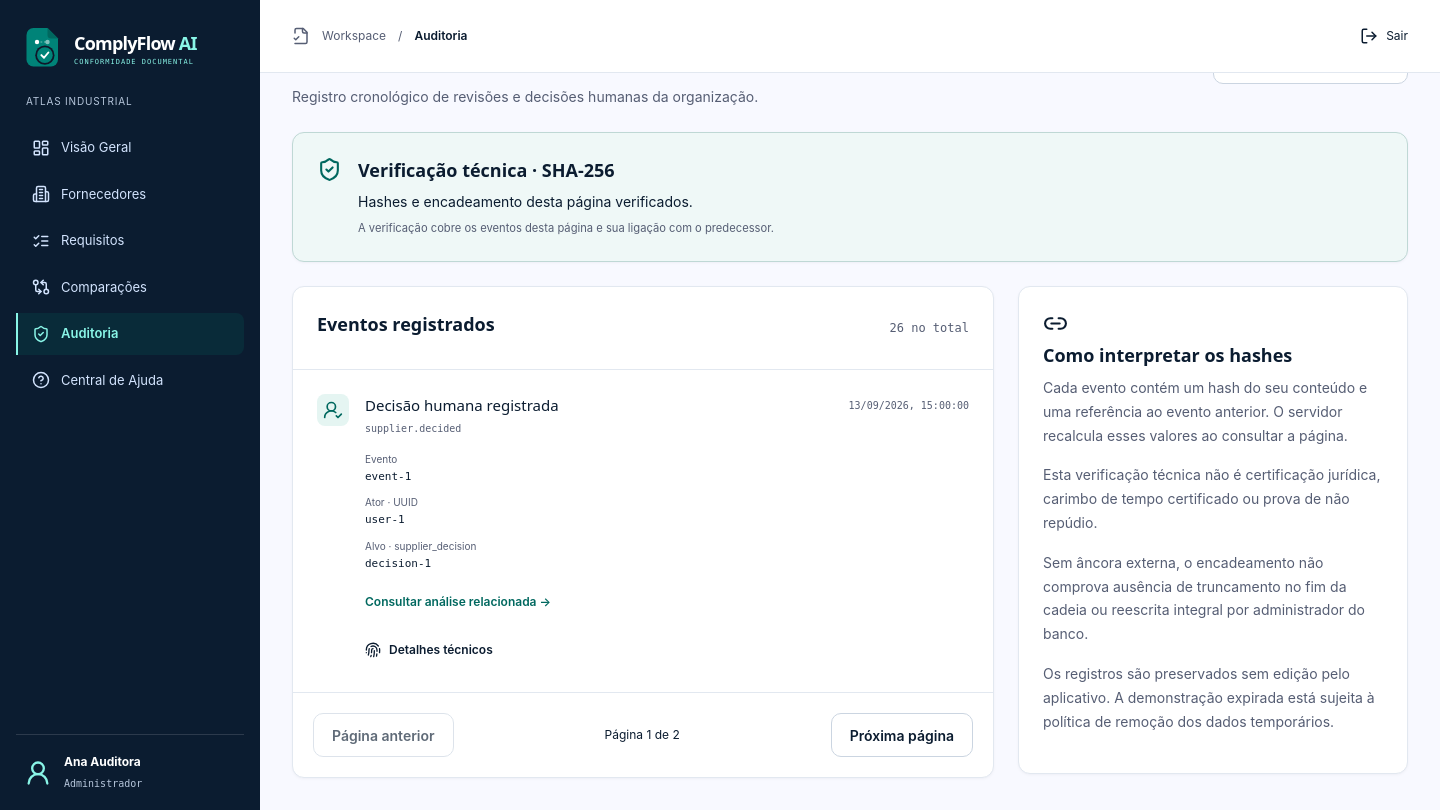
Test: Audit › paginates real events and marks technical verification and broken chain
(page scrolled)
Expected: the text "Hashes e encadeamento desta página verificados." is shown, [358,193,693,210]
Expected: the picture named "Integridade verificada nesta página" is shown, [317,157,342,182]
Click the heading "Detalhes técnicos".
click(429, 650)  # box [365,642,493,658]
(page scrolled)
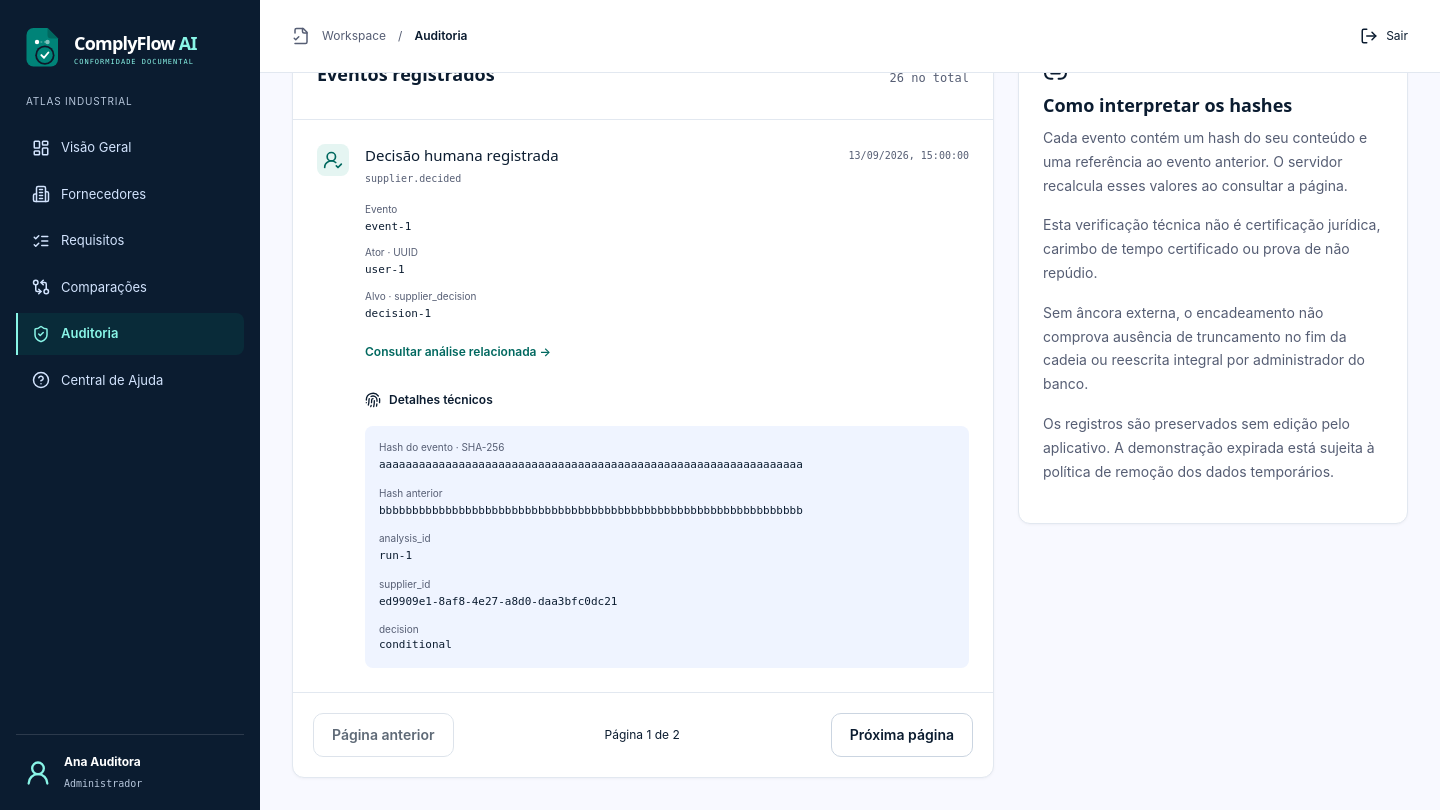
Click the button "Próxima página".
click(902, 735)  # box [831,713,973,757]
(page scrolled)
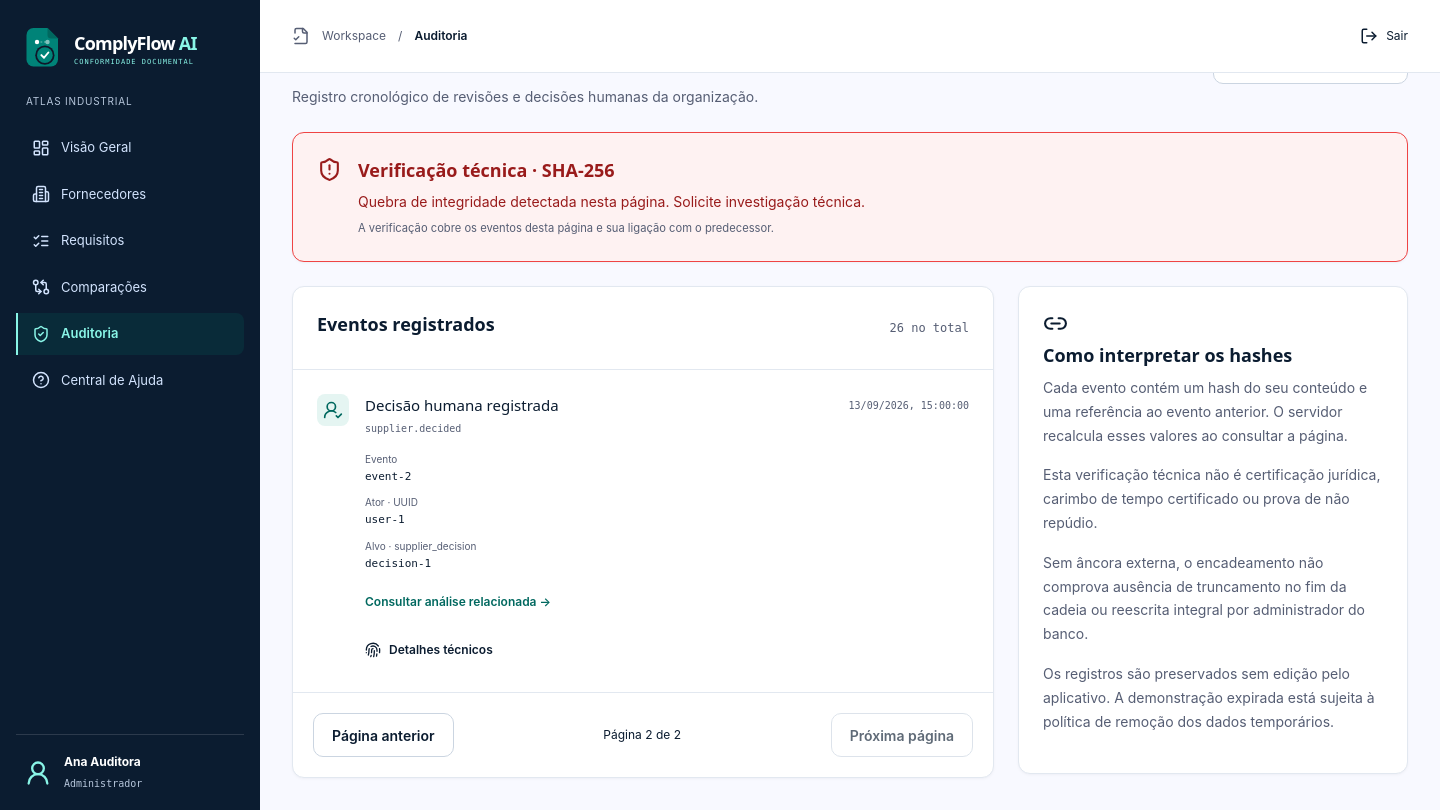
Expected: the picture named "Quebra de integridade" is shown, [317,157,342,182]
Expected: the text "event-2" is shown, [365,470,411,483]
